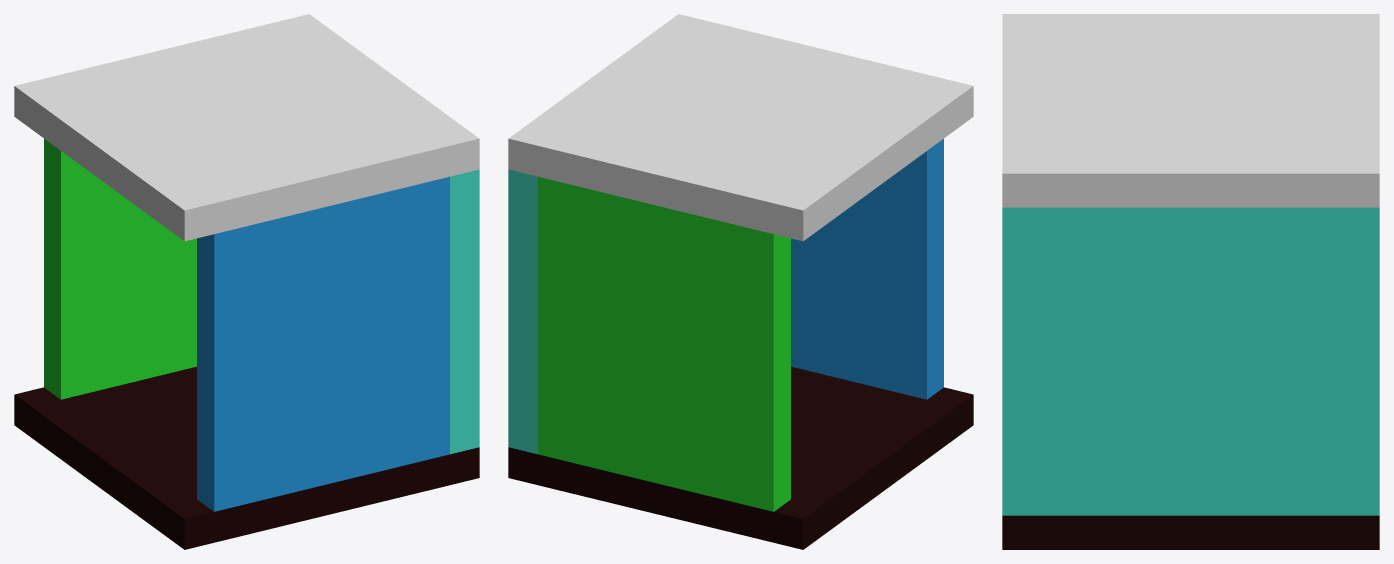
Rendered from kiste.fbx.
3 views of the same model, side by side, from view 1: azimuth 30°, elevation 25°; view 2: azimuth 150°, elevation 25°; view 3: azimuth 270°, elevation 25° (orthographic). The views are drawn at different scales.
Visible parts, largest first — view 1: mitte1, top, mitte2, bot, links; view 2: mitte2, top, mitte1, bot, links; view 3: links, top, bot.
Boxes of the visible parts, bbox=[...] form: mitte1: bbox=[197, 176, 449, 511]; top: bbox=[14, 14, 479, 241]; mitte2: bbox=[44, 138, 196, 399]; bot: bbox=[14, 366, 479, 549]; links: bbox=[450, 169, 479, 454]; mitte2: bbox=[538, 176, 790, 511]; top: bbox=[508, 14, 973, 241]; mitte1: bbox=[791, 138, 943, 399]; bot: bbox=[508, 366, 973, 549]; links: bbox=[508, 169, 537, 454]; links: bbox=[1002, 207, 1379, 515]; top: bbox=[1002, 14, 1379, 207]; bot: bbox=[1002, 515, 1379, 549].
Bounding box in the file's own units: 100 × 110 × 100.
